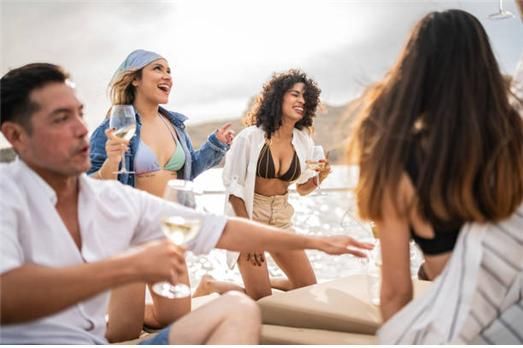alcohol: (154, 181, 202, 301), (105, 104, 139, 174), (304, 145, 330, 198)
